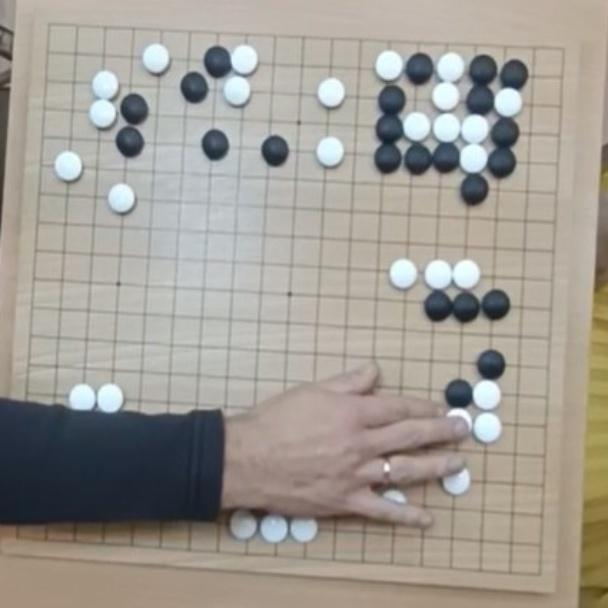corners: (515, 544, 560, 593), (29, 6, 76, 52), (534, 33, 582, 75), (2, 518, 50, 548)
